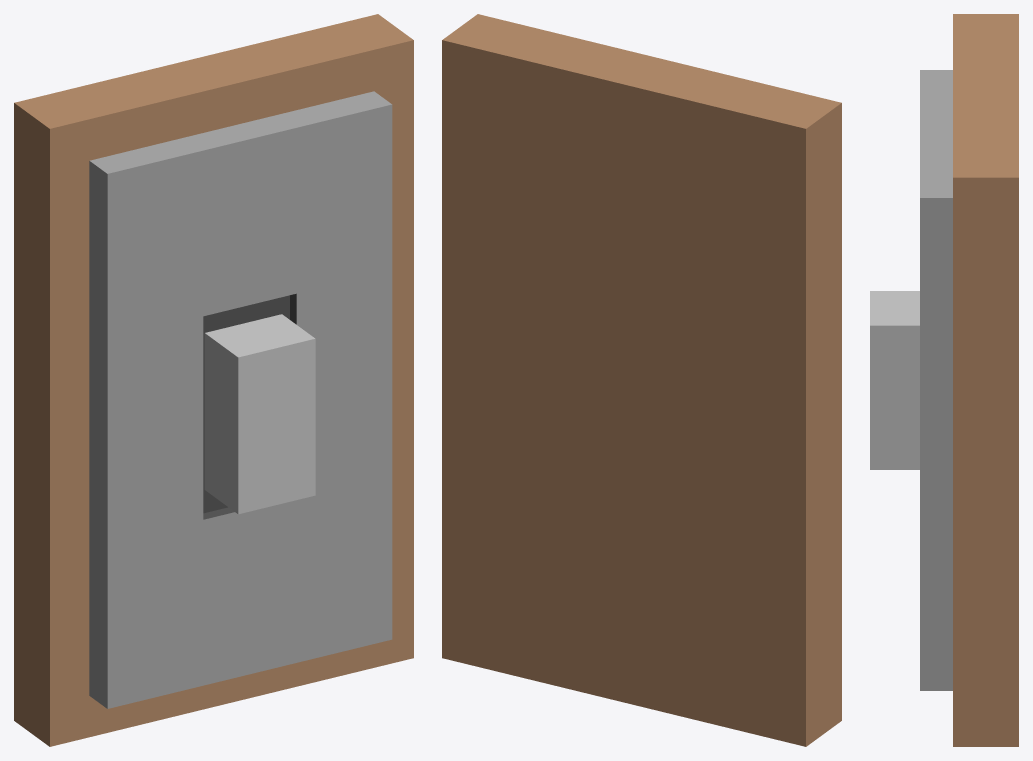
The model's file is switch.glb.
3 renders of one model, left to right at view 1: azimuth 30°, elevation 25°; view 2: azimuth 150°, elevation 25°; view 3: azimuth 270°, elevation 25°, orthographic. The views are drawn at different scales.
Parts seen in each view (by area): view 1: Switch; view 2: Switch; view 3: Switch.
Part boxes in pixels (x1,y1,x2,y2): Switch: [14, 14, 413, 746]; Switch: [442, 14, 841, 746]; Switch: [870, 14, 1018, 746].
Size of the model in its own units: 0.1656 by 0.2686 by 0.0636.
1 material, 1 textured.
